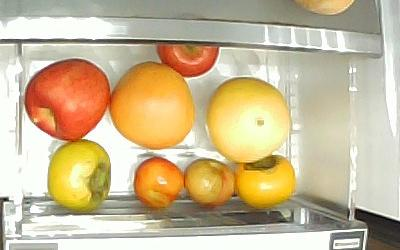apple: (23, 57, 111, 141), (155, 42, 219, 77)
grapefruit: (108, 60, 195, 150), (205, 75, 290, 162)
persimmon: (46, 138, 111, 212), (232, 153, 296, 205)
prune: (132, 155, 184, 208), (182, 156, 235, 205)
